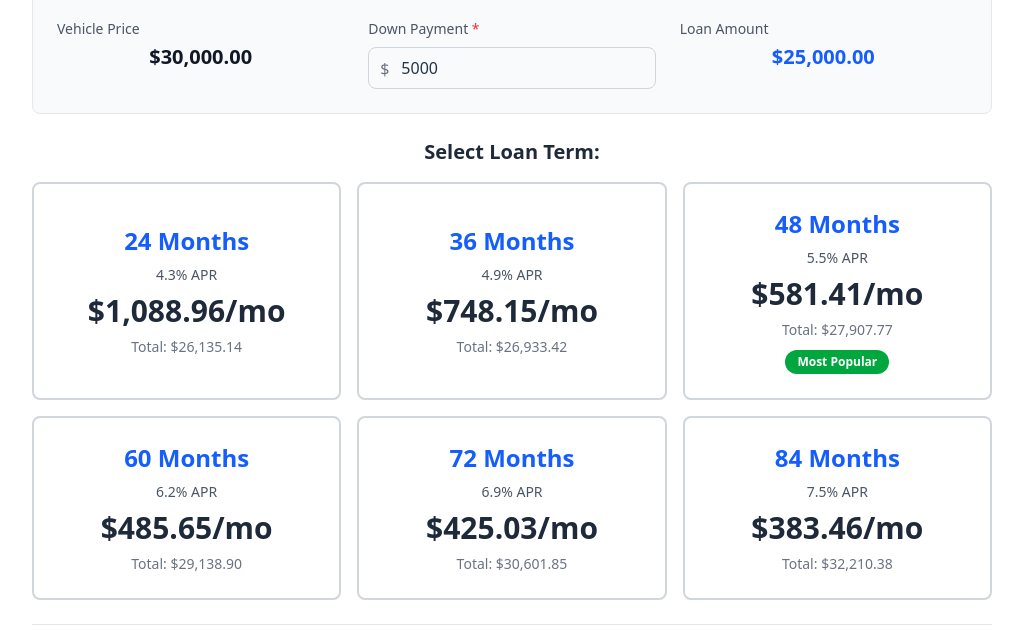
Test: LoanDetails Component › Form Actions › should require down payment before submission
Clear the number field labelled "Down Payment *" at (512, 68), box [368,47,656,89]
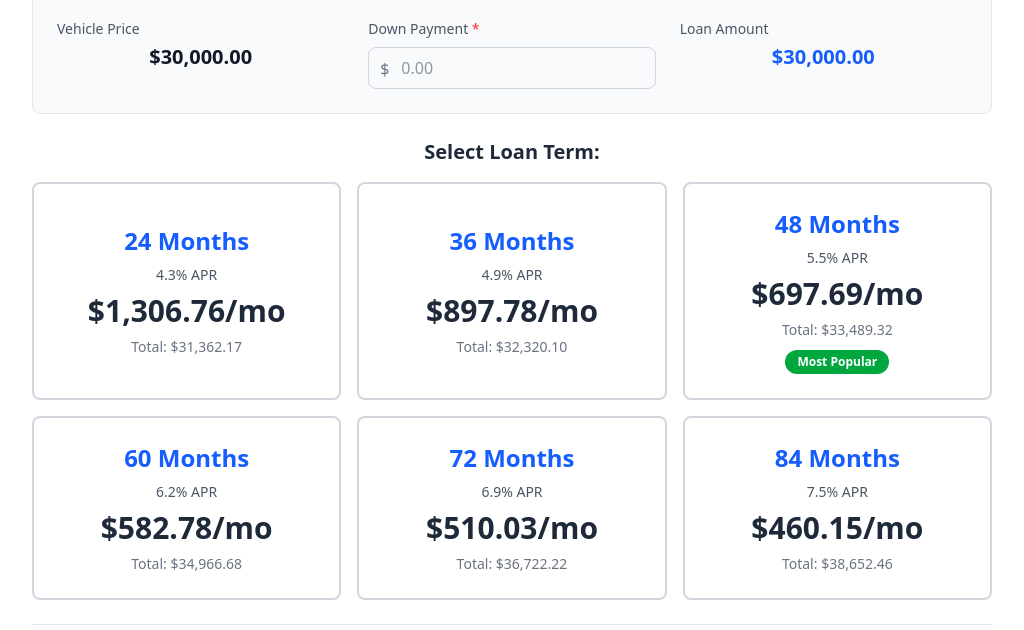
Click the button "48 Months" at (837, 291), box [683,182,992,400]
(page scrolled)
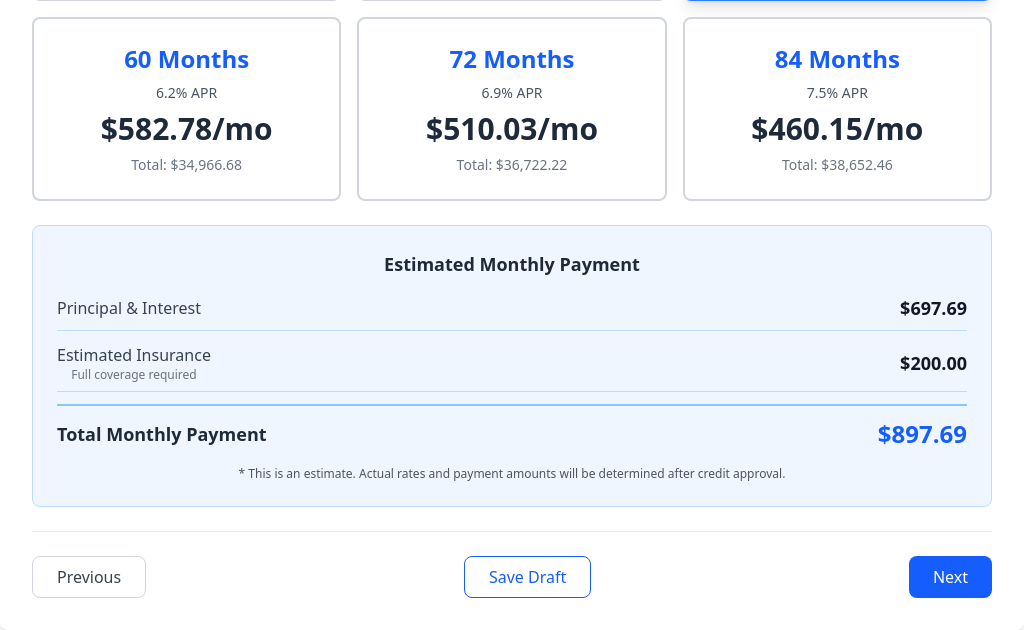
Click the button "Next" at (950, 577), box [909,556,992,598]
(page scrolled)
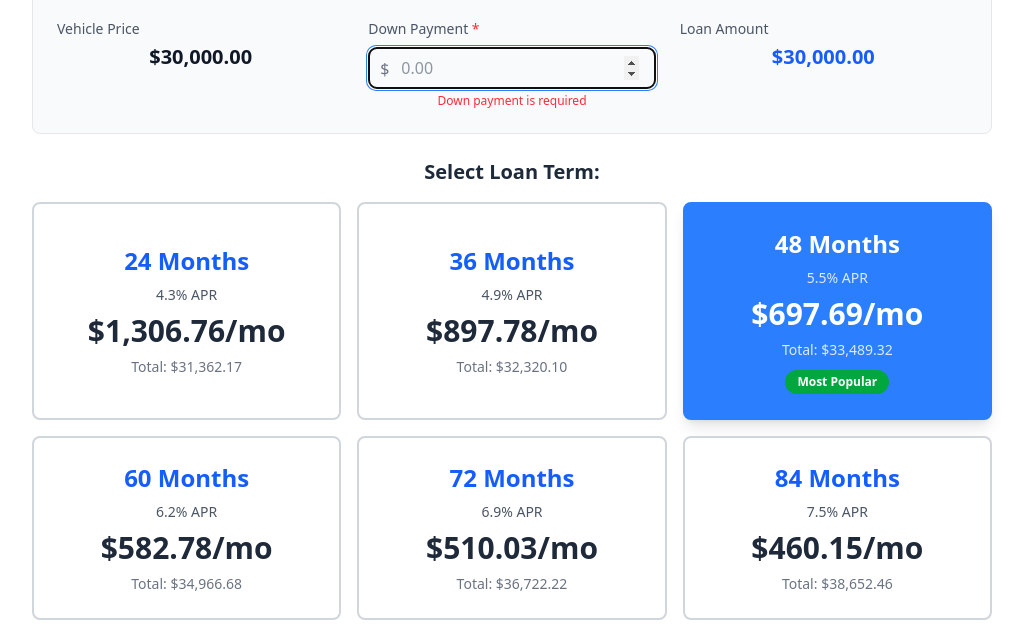
Expected: the text "Down payment is required" is shown, [438,92,586,109]
